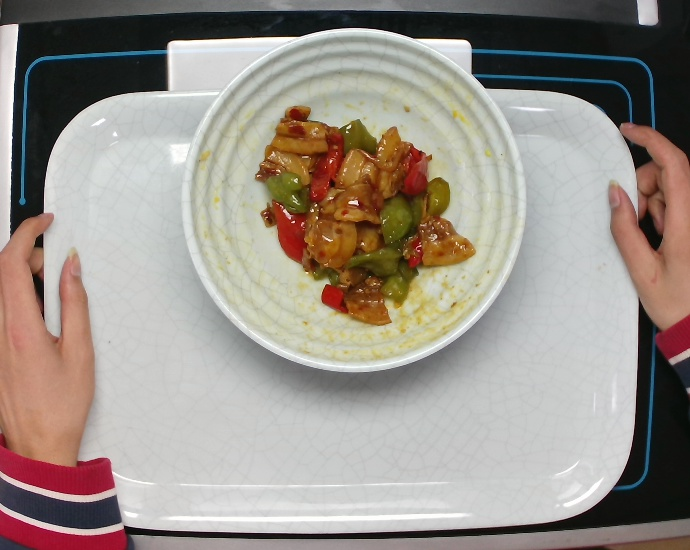JYsf-Da_Tang_Wan: (177, 28, 532, 379)
